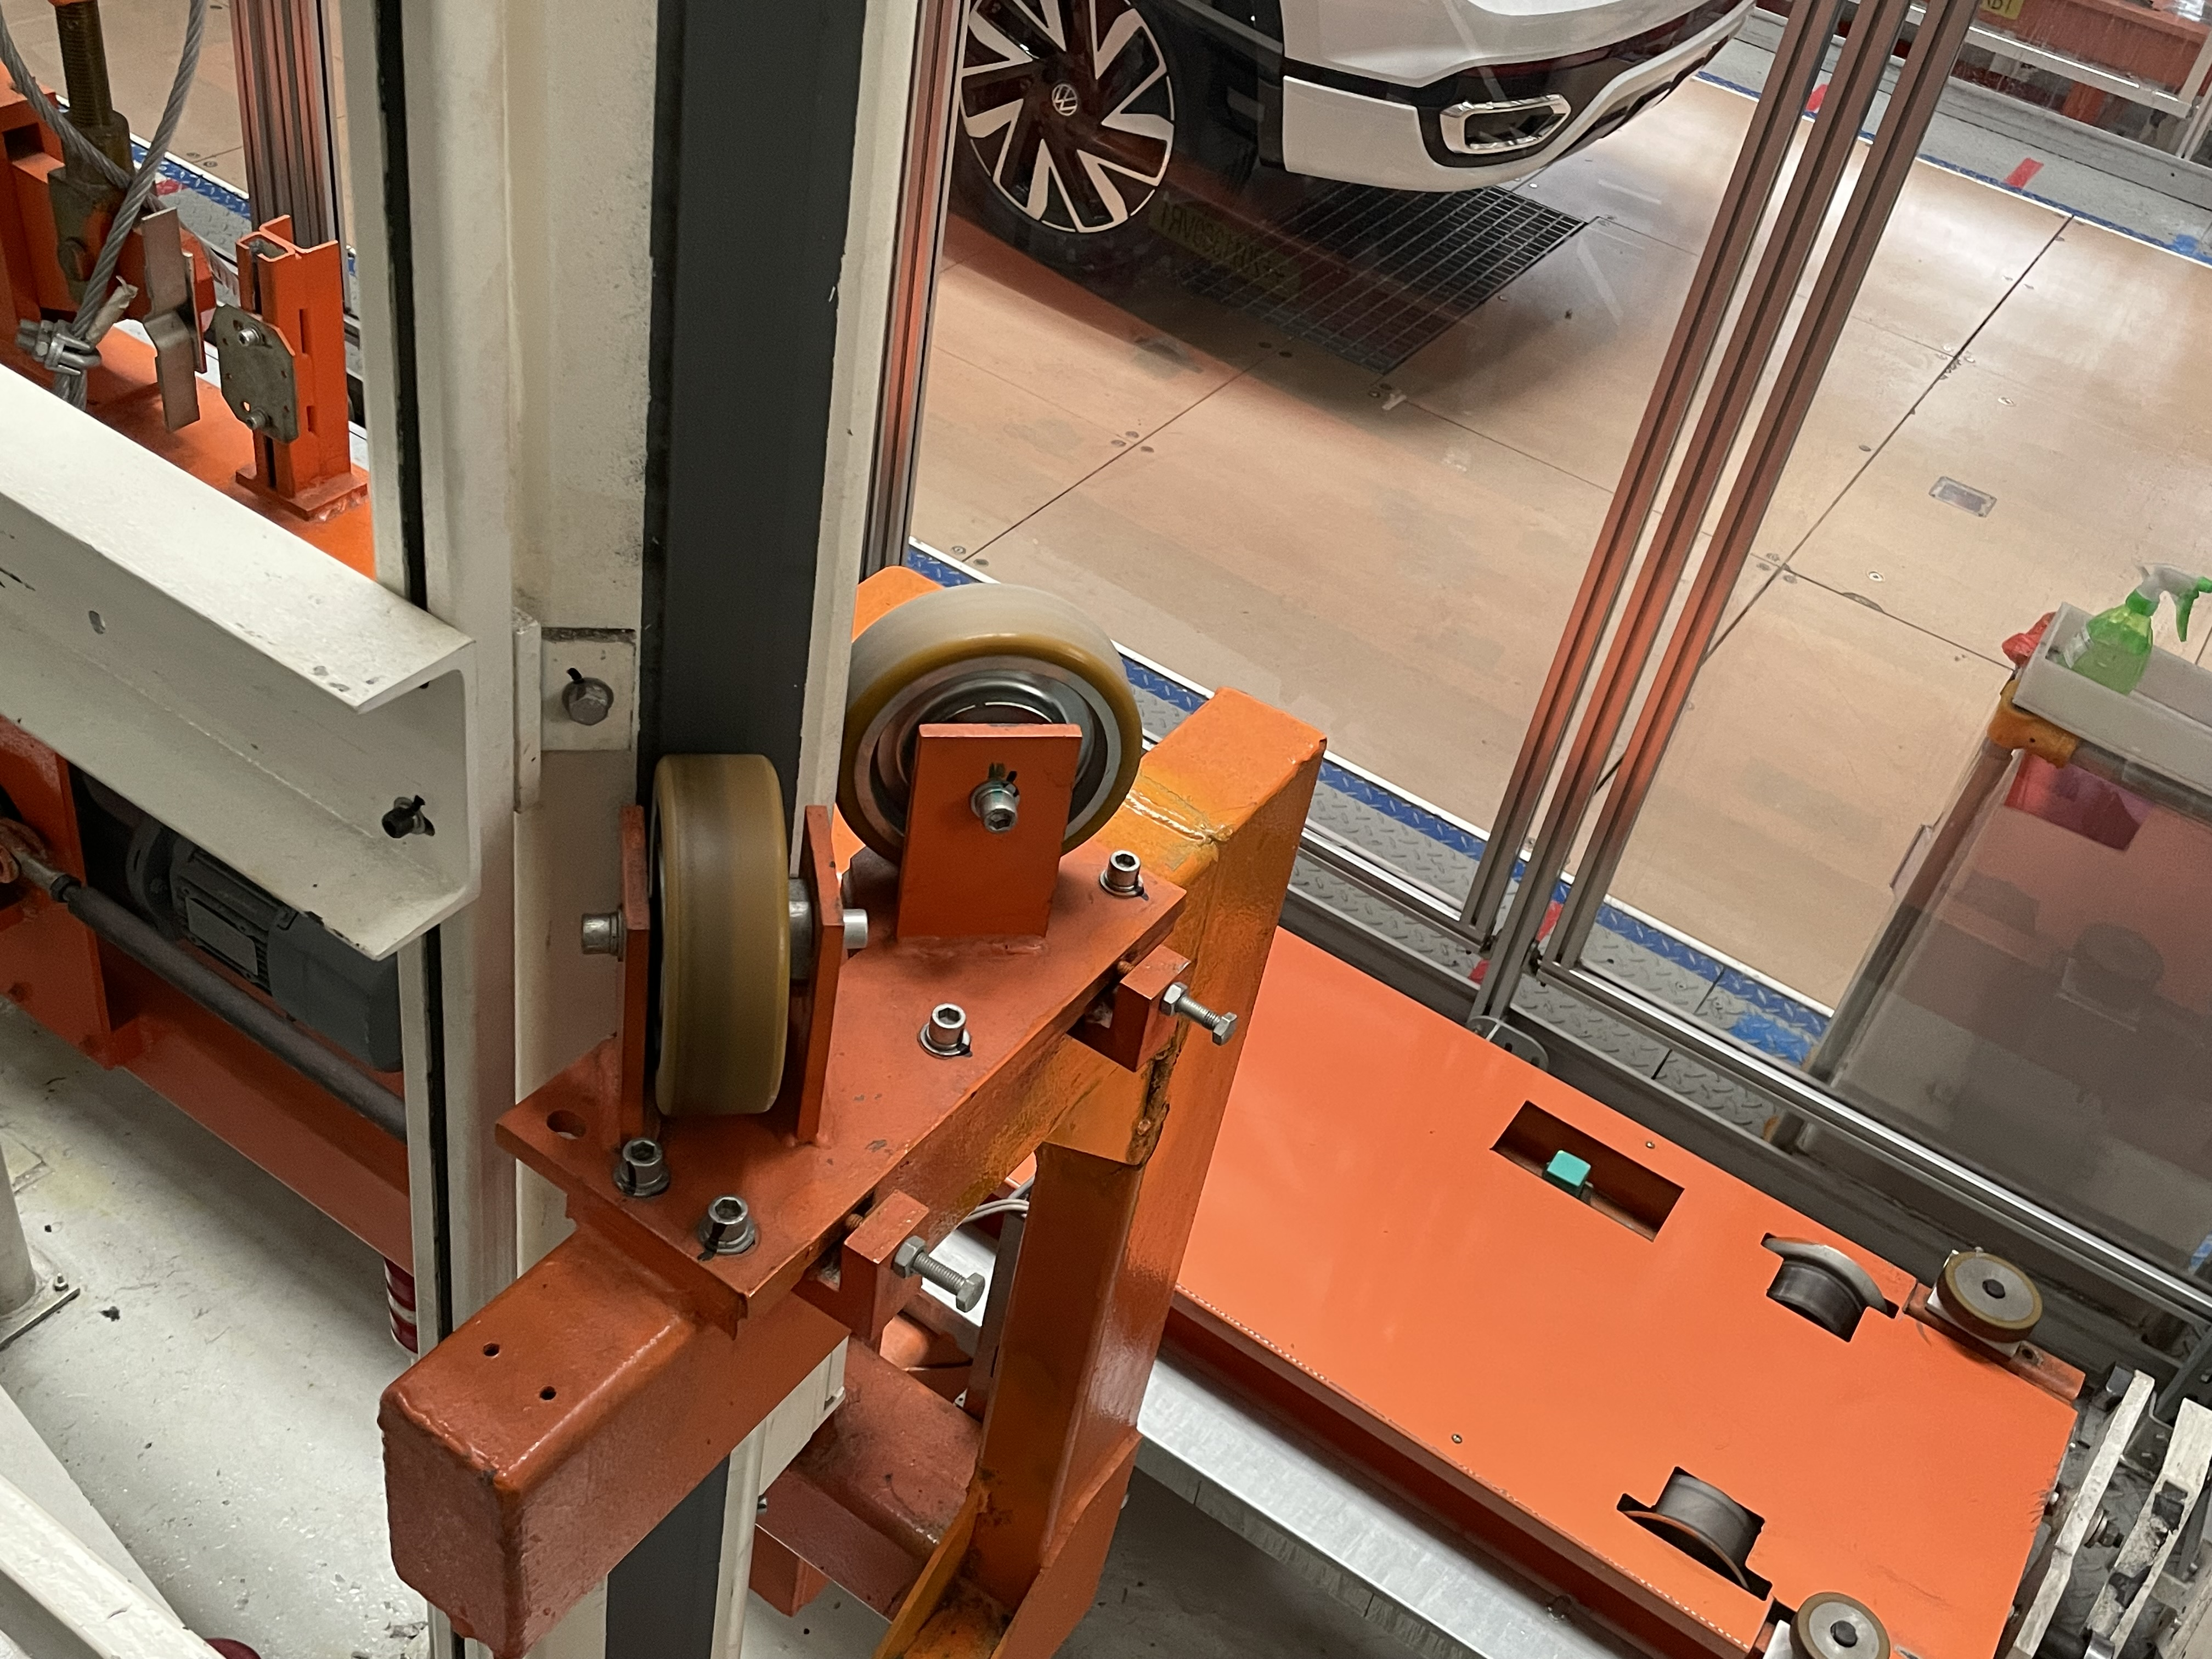good_wheel: (833, 579, 1162, 890), (610, 746, 829, 1148)
